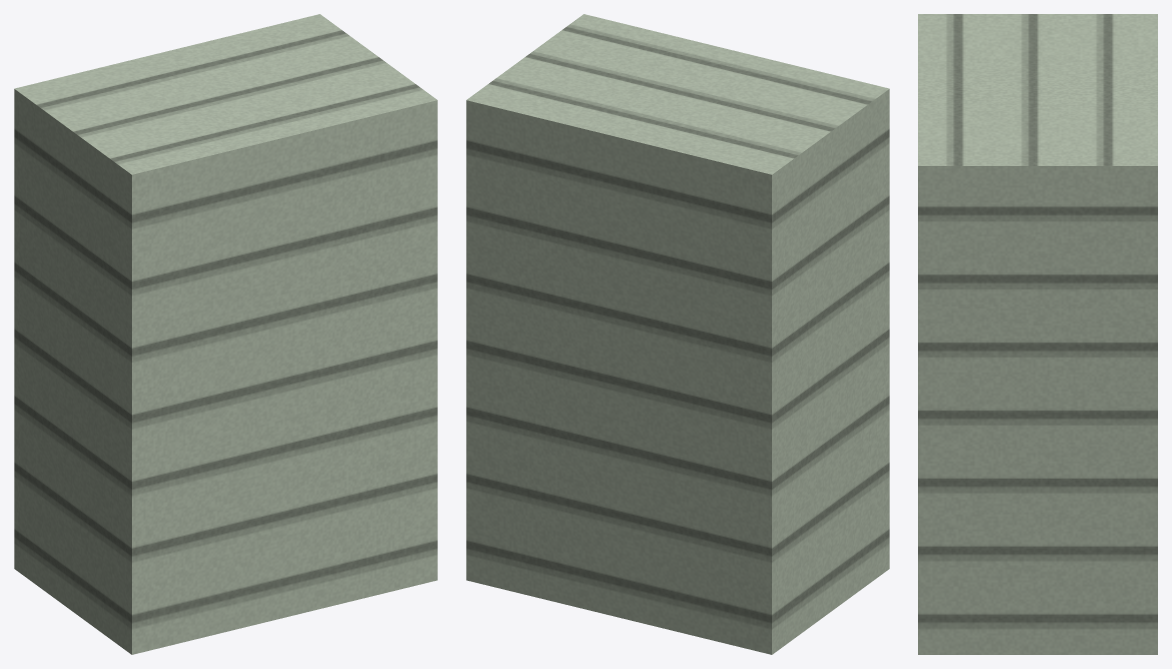
Rendered from air_compressor.glb.
3 renders of one model, left to right at view 1: azimuth 30°, elevation 25°; view 2: azimuth 150°, elevation 25°; view 3: azimuth 270°, elevation 25°, orthographic.
Parts seen in each view (by area): view 1: air_compressor-col; view 2: air_compressor-col; view 3: air_compressor-col.
Part boxes in pixels (bbox=[...]): air_compressor-col: bbox=[14, 14, 437, 654]; air_compressor-col: bbox=[466, 14, 889, 654]; air_compressor-col: bbox=[918, 14, 1157, 654].
Bounding box in the file's own units: 0.6 × 0.9 × 0.4.
Materials: 1 (1 with a texture image).
